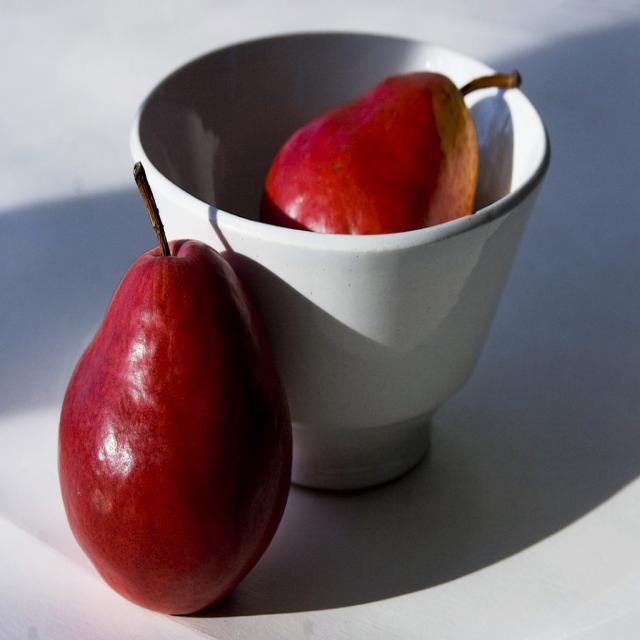pear: (58, 237, 293, 614), (260, 69, 480, 230)
